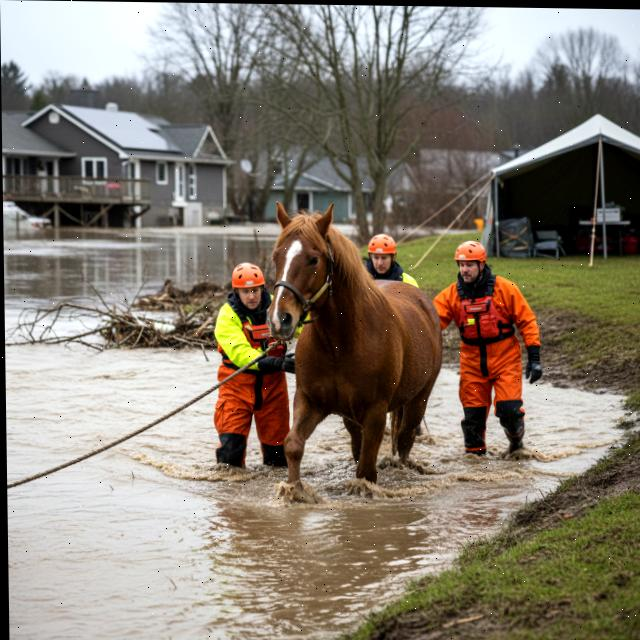horse: (266, 195, 448, 492)
rescuer: (428, 238, 551, 462), (207, 251, 295, 480), (355, 224, 426, 291)
